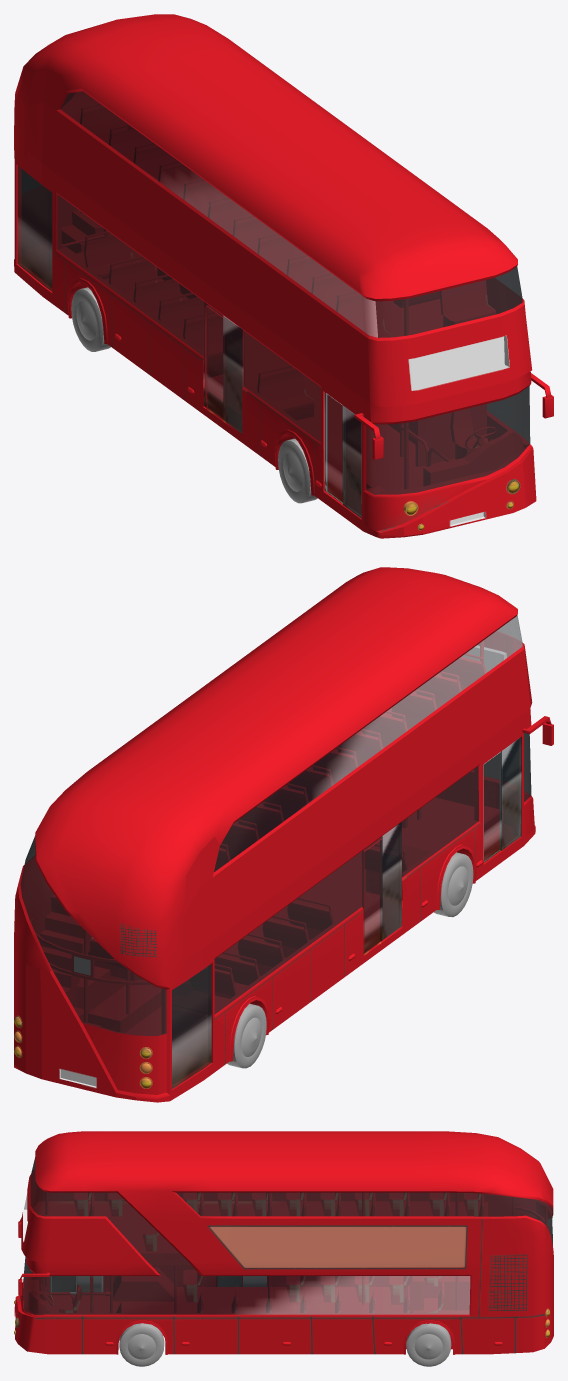
Rendered from Bus_11_v2.fbx.
The picture shows the model from 3 angles, top to bottom: view 1: azimuth 30°, elevation 25°; view 2: azimuth 150°, elevation 25°; view 3: azimuth 270°, elevation 25°; orthographic projection. The views are drawn at different scales.
Visible parts, largest first — view 1: Bus_11body, WindowGlass, Bus_12_L_DoorGlass, Bus_12_R_DoorGlass, FL, RL; view 2: Bus_11body, WindowGlass, Bus_12_L_DoorGlass, Bus_12_R_DoorGlass, RL, FL; view 3: Bus_11body, WindowGlass, FR, RR, Bus_12_L_DoorGlass.
Part boxes in pixels (x1,y1,x2,y2): Bus_11body: (14,14,553,538); WindowGlass: (17,91,530,494); Bus_12_L_DoorGlass: (342,405,361,518); Bus_12_R_DoorGlass: (325,392,342,503); FL: (278,438,317,503); RL: (71,287,110,351); Bus_11body: (14,567,553,1102); WindowGlass: (20,615,531,1088); Bus_12_L_DoorGlass: (501,737,521,850); Bus_12_R_DoorGlass: (483,751,501,862); RL: (227,1003,266,1068); FL: (434,852,473,917); Bus_11body: (14,1131,553,1354); WindowGlass: (23,1157,552,1314); FR: (119,1323,164,1366); RR: (406,1323,451,1366); Bus_12_L_DoorGlass: (52,1276,75,1291).
Bounding box in the file's own units: 309 × 465 × 1160.
Materials: 3 (2 with a texture image).
